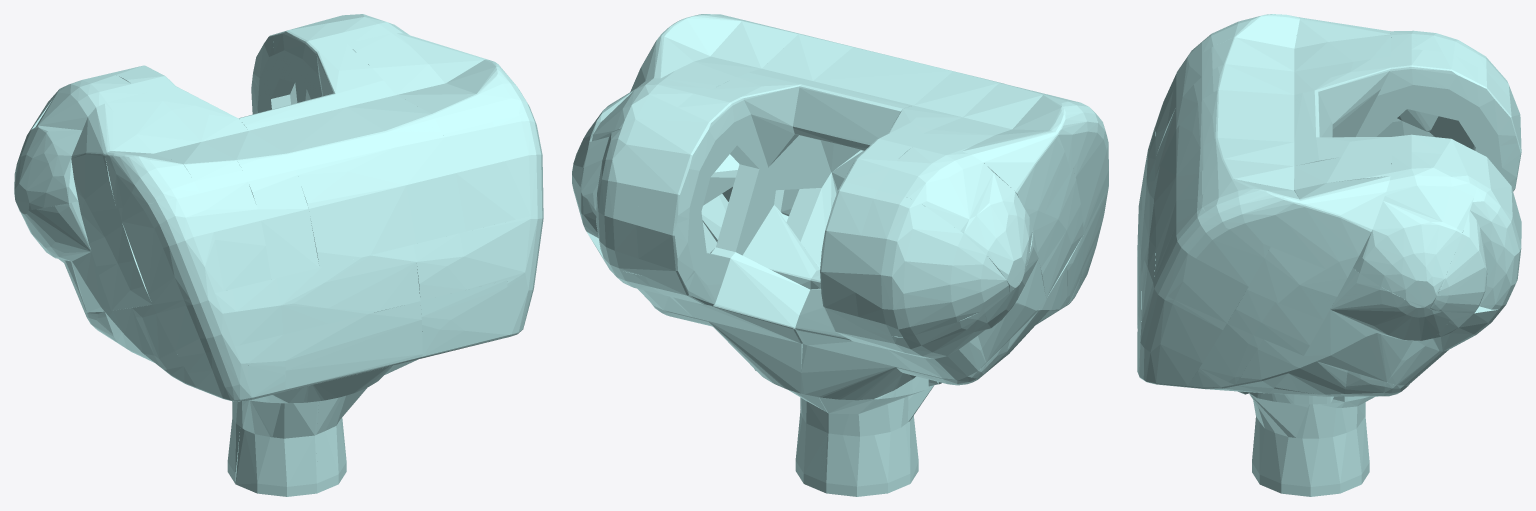
File: L_SHOULDER_P_LINK_mesh.dae
3 renders of one model, left to right at view 1: azimuth 30°, elevation 25°; view 2: azimuth 150°, elevation 25°; view 3: azimuth 270°, elevation 25°, orthographic. The views are drawn at different scales.
Parts seen in each view (by area): view 1: L_SHOULDER_P_LINK; view 2: L_SHOULDER_P_LINK; view 3: L_SHOULDER_P_LINK.
Part boxes in pixels (x1,y1,x2,y2): L_SHOULDER_P_LINK: (14,14,543,496); L_SHOULDER_P_LINK: (572,14,1108,496); L_SHOULDER_P_LINK: (1137,14,1521,496).
Bounding box in the file's own units: 0.1764 × 0.15 × 0.1403.
